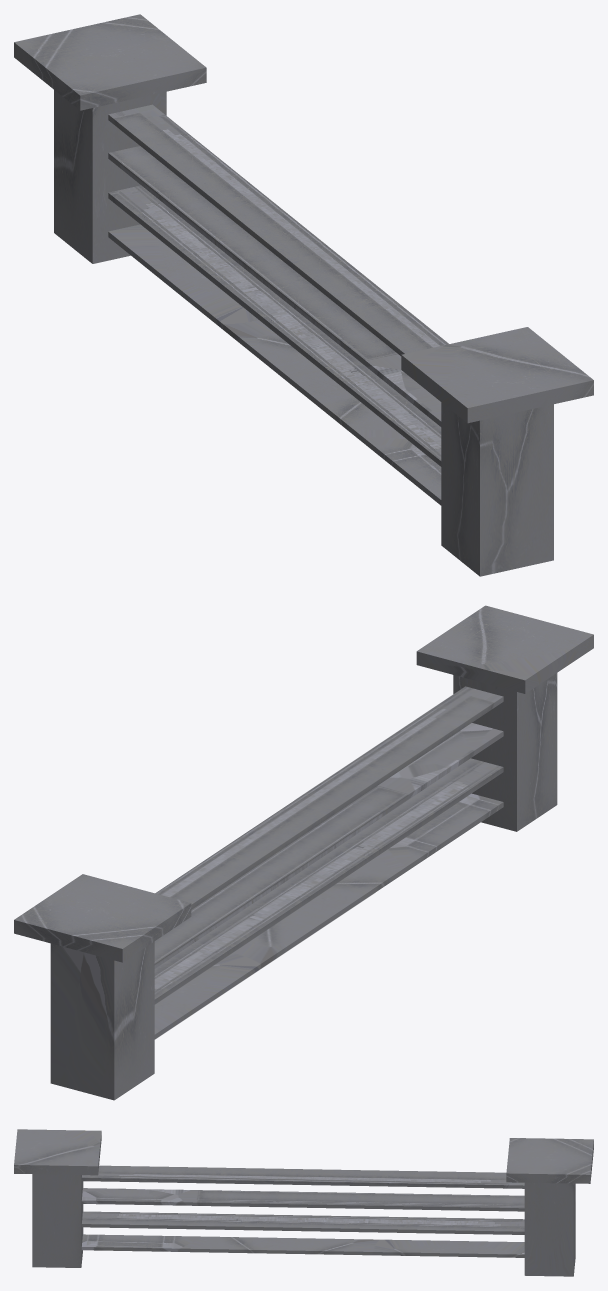
File: fence.fbx
3 renders of one model, top to bottom at view 1: azimuth 30°, elevation 25°; view 2: azimuth 150°, elevation 25°; view 3: azimuth 270°, elevation 25°, orthographic. The views are drawn at different scales.
Parts seen in each view (by area): view 1: fence; view 2: fence; view 3: fence.
Boxes of the visible parts, x1=… form: fence: x1=14, y1=14, x2=593, y2=576; fence: x1=14, y1=605, x2=593, y2=1100; fence: x1=14, y1=1129, x2=593, y2=1276.
Bounding box in the file's own units: 1.09 × 1.23 × 5.88.
1 material, 1 textured.
